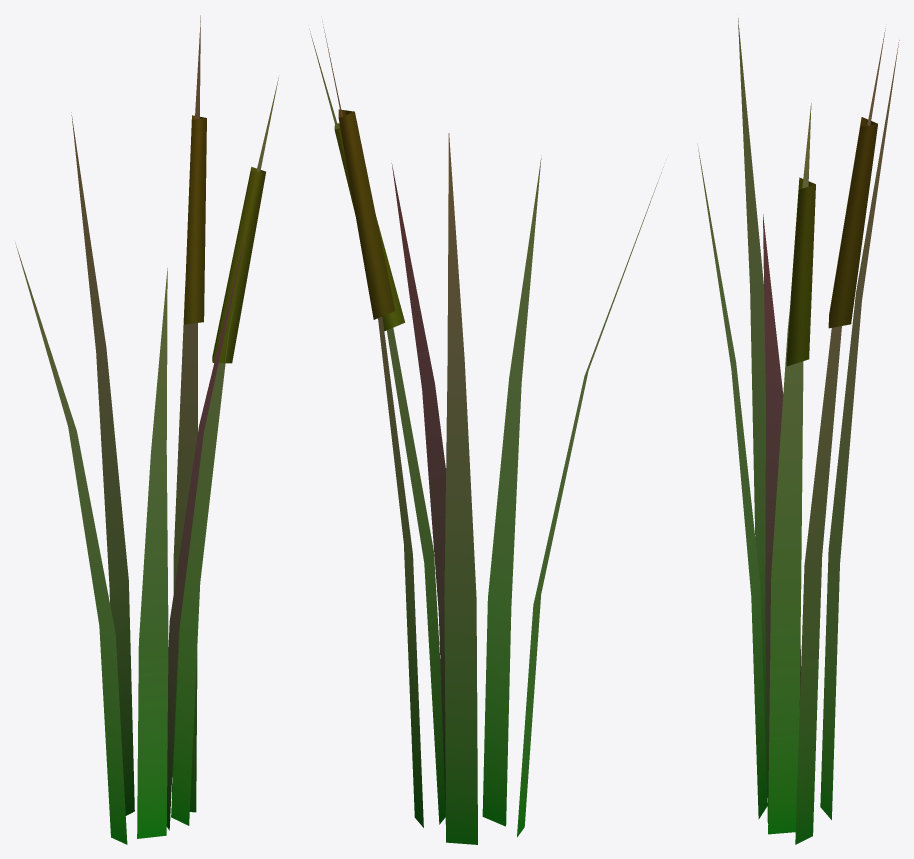
The model's file is basic-reed.glb.
The picture shows the model from 3 angles, left to right: view 1: azimuth 30°, elevation 25°; view 2: azimuth 150°, elevation 25°; view 3: azimuth 270°, elevation 25°; orthographic projection. The views are drawn at different scales.
Visible parts, largest first — view 1: basic-reed_LOD0; view 2: basic-reed_LOD0; view 3: basic-reed_LOD0.
Part boxes in pixels (x1,y1,x2,y2): basic-reed_LOD0: (15,15,278,844); basic-reed_LOD0: (309,22,663,844); basic-reed_LOD0: (697,18,899,844).
Size of what is drawn, in the model's own units: 0.514 by 1.25 by 0.2711.
